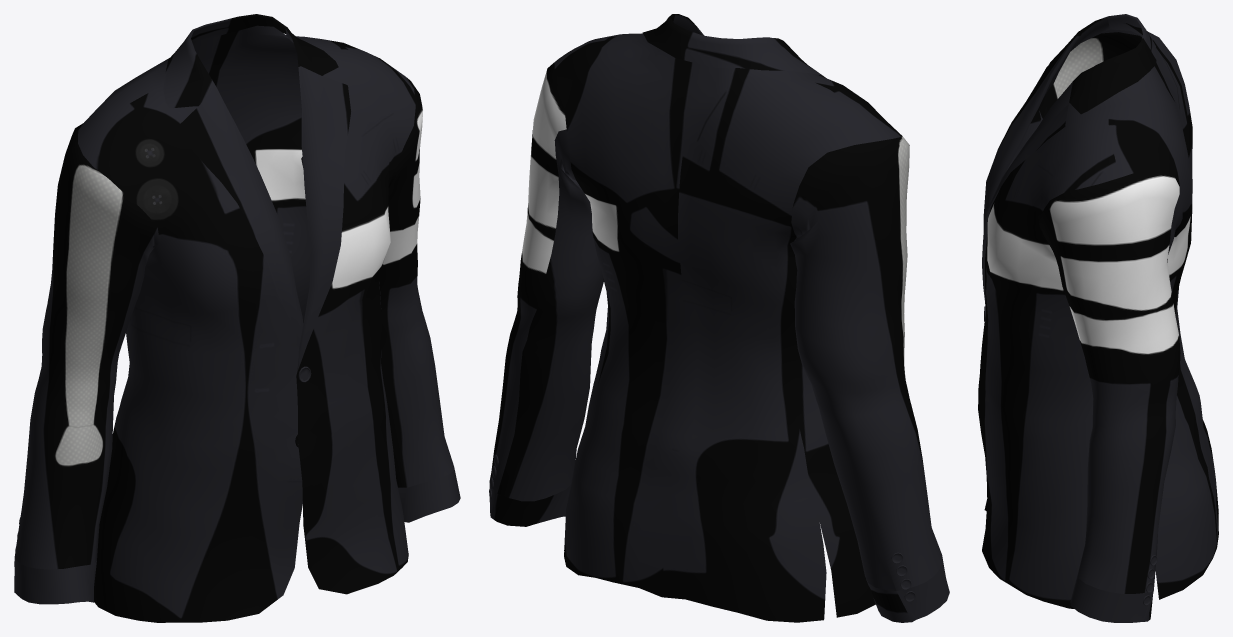
File: male_suit.glb
The picture shows the model from 3 angles, left to right: view 1: azimuth 30°, elevation 25°; view 2: azimuth 150°, elevation 25°; view 3: azimuth 270°, elevation 25°; orthographic projection. The views are drawn at different scales.
Visible parts, largest first — view 1: all; view 2: all; view 3: all.
Boxes of the visible parts, bbox=[...] form: all: bbox=[14, 14, 460, 622]; all: bbox=[489, 14, 949, 622]; all: bbox=[978, 14, 1218, 622].
Bounding box in the file's own units: 0.6007 × 0.7146 × 0.3055.
Materials: 1 (1 with a texture image).
